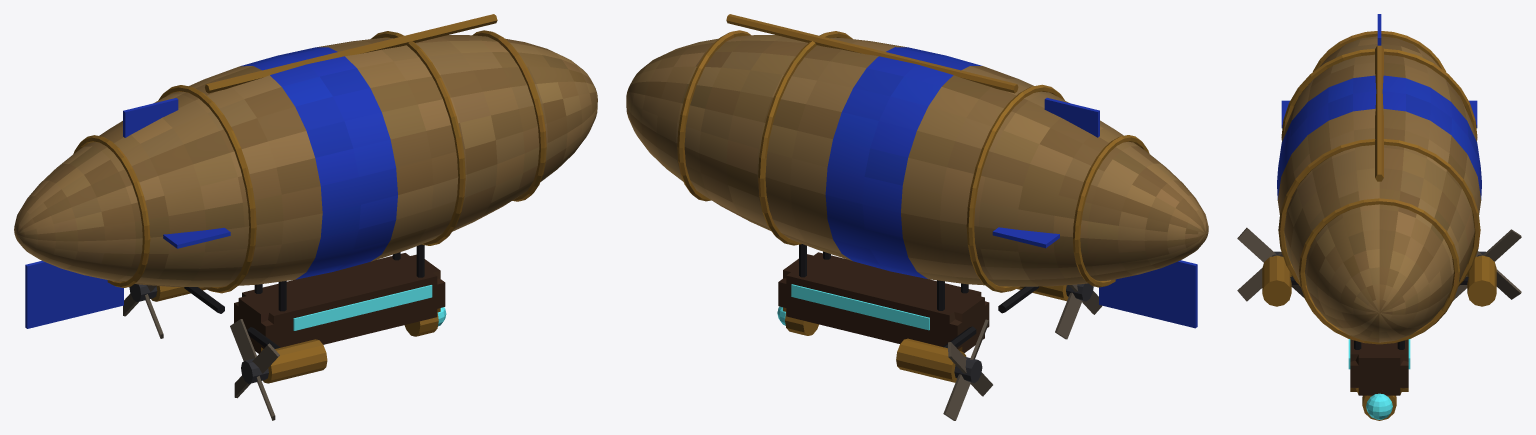
File: dirigeable-meshy.glb
The picture shows the model from 3 angles, left to right: view 1: azimuth 30°, elevation 25°; view 2: azimuth 150°, elevation 25°; view 3: azimuth 270°, elevation 25°; orthographic projection. The views are drawn at different scales.
Visible parts, largest first — view 1: body, zrotor_0_geo, zrotor_1_geo; view 2: body, zrotor_1_geo, zrotor_0_geo; view 3: body, zrotor_0_geo, zrotor_1_geo.
Part boxes in pixels (x1,y1,x2,y2): body: [14, 14, 597, 383]; zrotor_0_geo: [230, 319, 279, 420]; zrotor_1_geo: [123, 284, 163, 338]; body: [626, 14, 1208, 382]; zrotor_1_geo: [943, 319, 992, 420]; zrotor_0_geo: [1055, 283, 1102, 339]; body: [1262, 14, 1496, 420]; zrotor_0_geo: [1237, 227, 1304, 301]; zrotor_1_geo: [1453, 229, 1521, 300].
Bounding box in the file's own units: 2.5 × 1.25 × 1.17.
3 materials, 1 textured.
